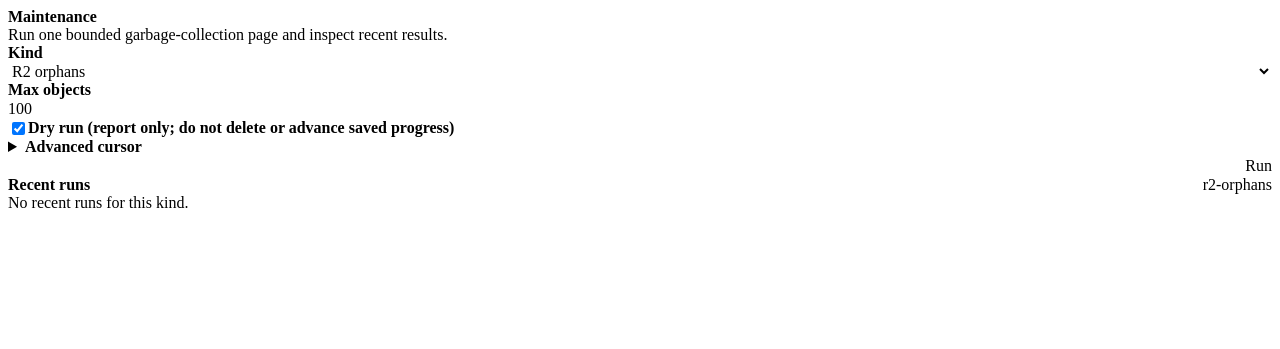
Test: GcPanel › turns a server-rejected opaque cursor into actionable validation guidance
The image size is (1280, 349).
Click the heading "Advanced cursor" at (83, 146), box [25,138,142,155]
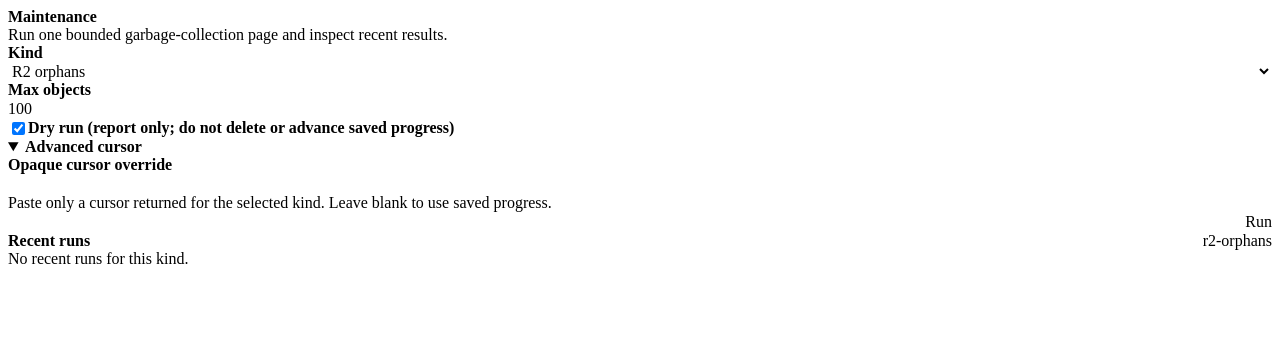
Type "malformed-cursor" into the field labelled "Opaque cursor override" at (640, 184), box [8,174,1272,194]
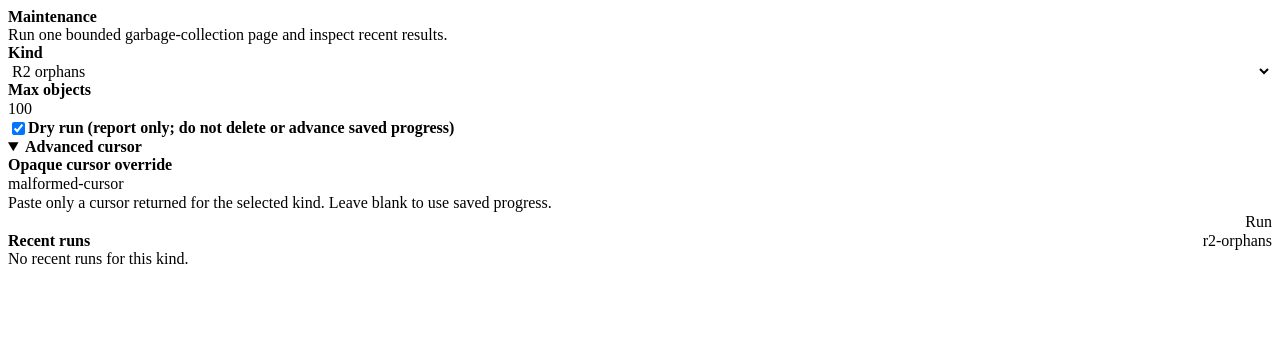
Click the button "Run" at (1259, 222), box [1245,212,1272,232]
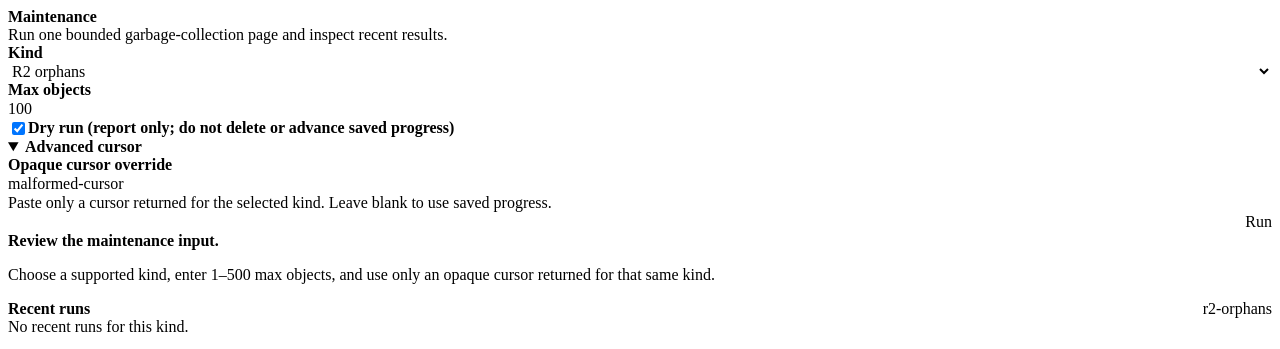
expect the text "opaque cursor returned for that same kind" is shown: met, box [8,266,715,283]
expect the text "1–500 max objects" is shown: met, box [8,266,715,283]
